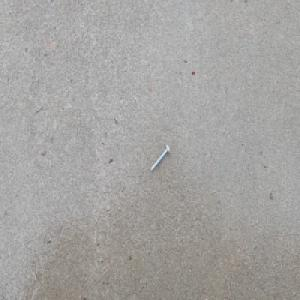Nail: (149, 142, 170, 172)
